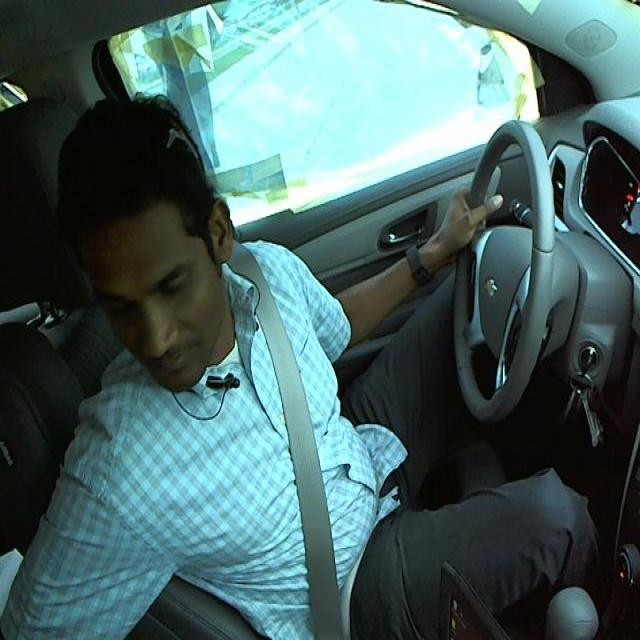seatbelt: (248, 284, 370, 636)
